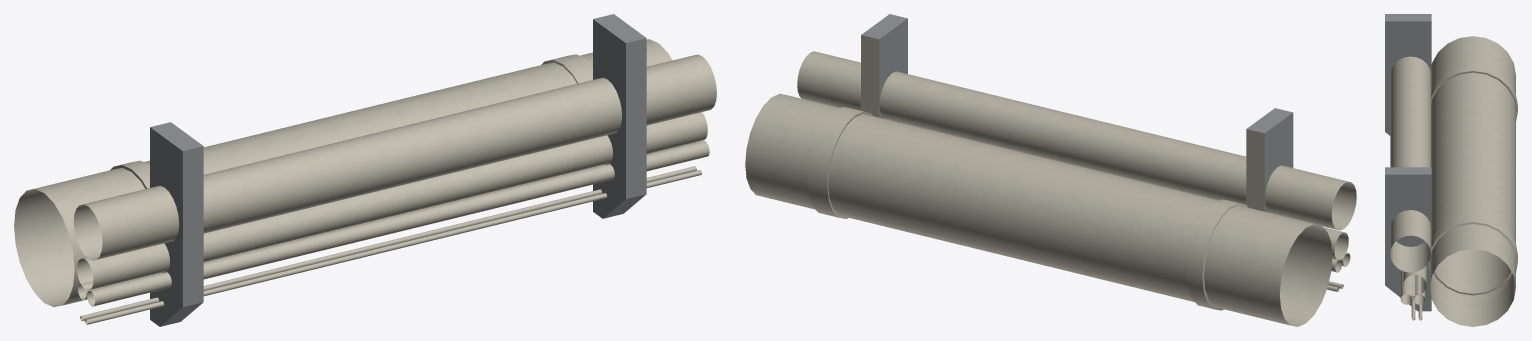
The model's file is WallpCube129.fbx.
3 renders of one model, left to right at view 1: azimuth 30°, elevation 25°; view 2: azimuth 150°, elevation 25°; view 3: azimuth 270°, elevation 25°, orthographic. The views are drawn at different scales.
Parts seen in each view (by area): view 1: pCube129; view 2: pCube129; view 3: pCube129.
Boxes of the visible parts, left/top/right/bottom form: pCube129: left=14, top=14, right=716, bottom=326; pCube129: left=745, top=14, right=1356, bottom=326; pCube129: left=1385, top=14, right=1517, bottom=326.
Bounding box in the file's own units: 101 × 30.16 × 26.55.
